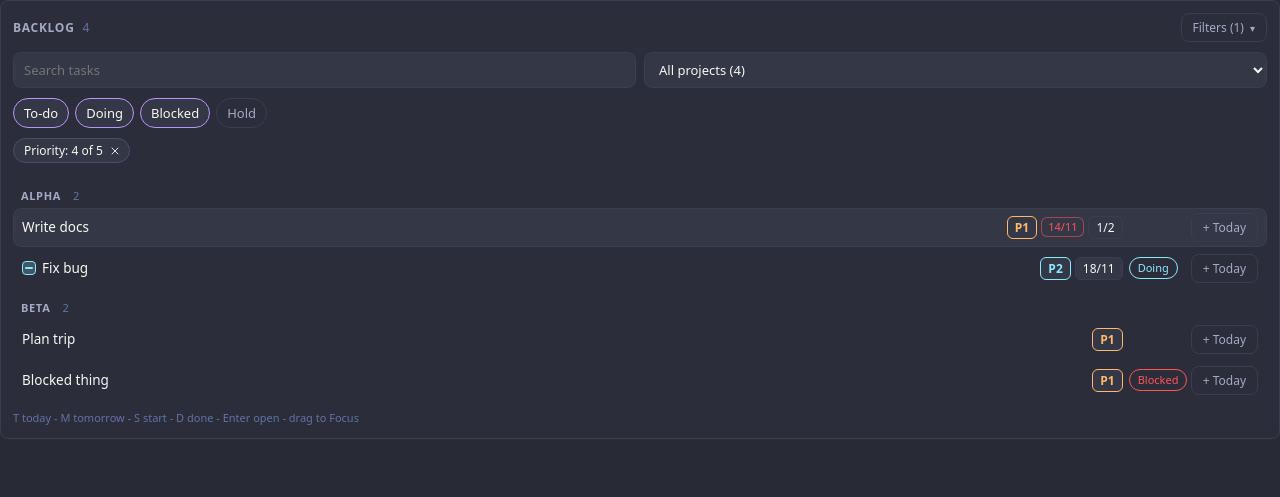
Test case: BacklogPanel › survives storage that throws
Click the button "Hold": (242, 113) [216,98,267,128]
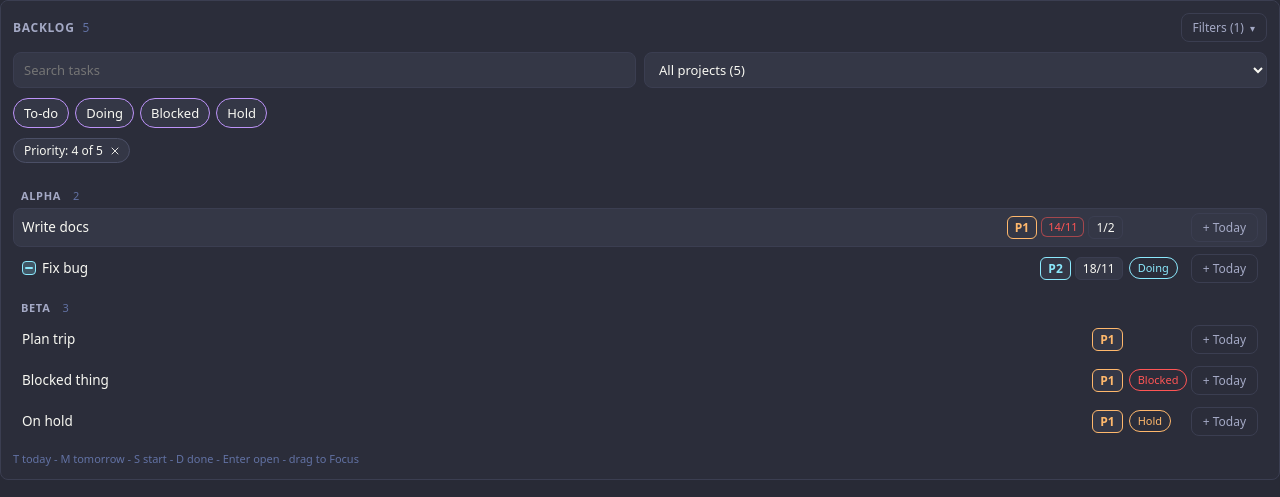
Check: the text "On hold" is shown, box [22,412,73,430]
